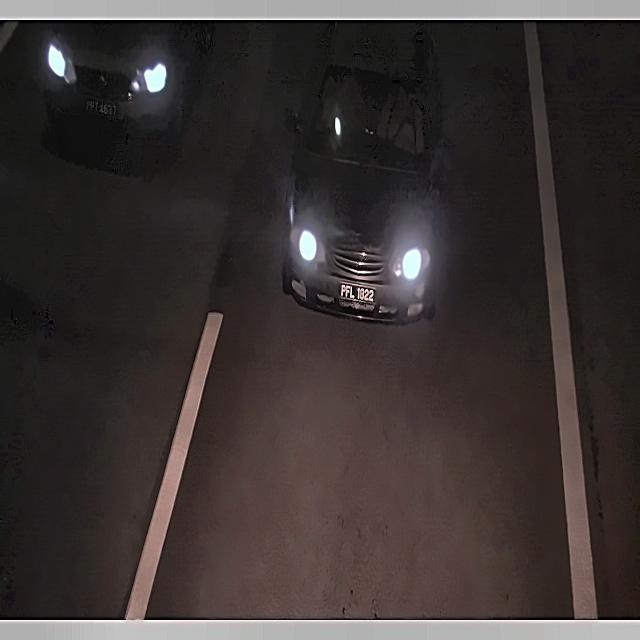car: (77, 91, 122, 130), (339, 280, 378, 309)
